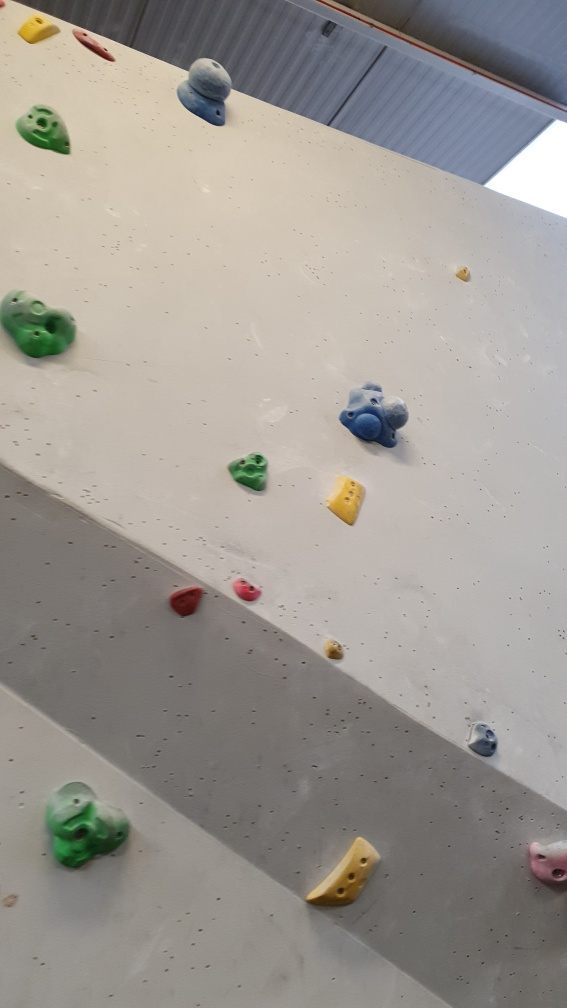Crimp: (305, 834, 383, 918), (325, 471, 380, 532)
Jug: (43, 773, 138, 882), (1, 280, 81, 366), (18, 93, 75, 161), (226, 444, 268, 493)
Pinch: (18, 10, 65, 54)
Sloper: (338, 368, 410, 454), (169, 53, 236, 138)
